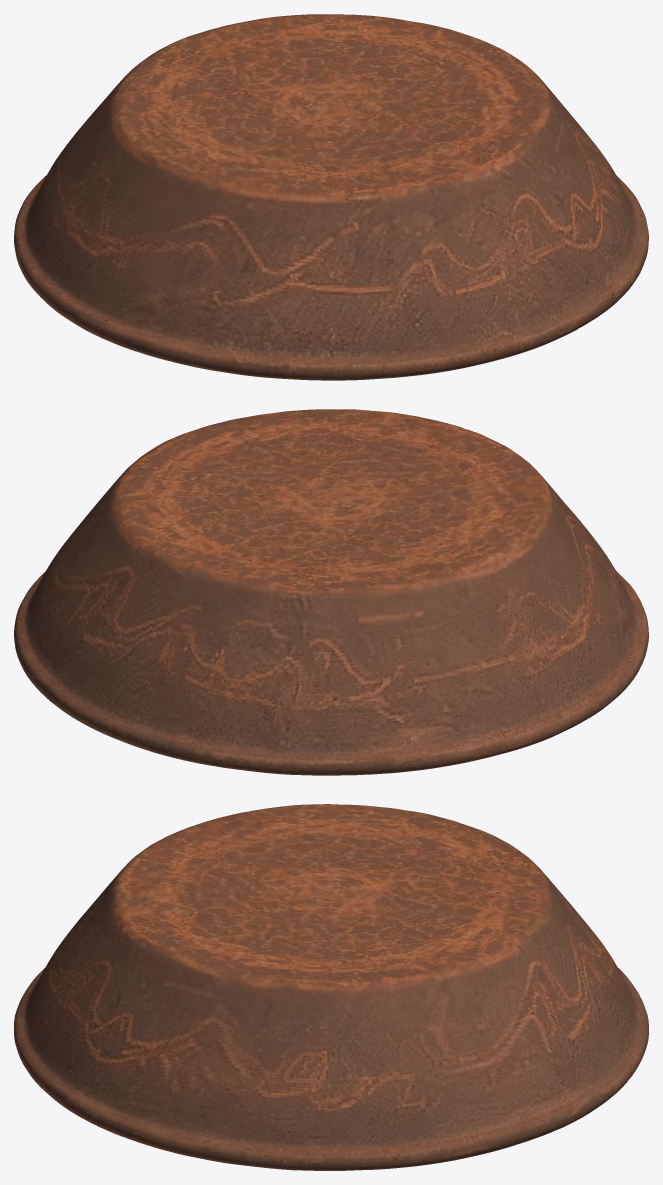
Rendered from jar_lid_optimized.glb.
The picture shows the model from 3 angles, top to bottom: view 1: azimuth 30°, elevation 25°; view 2: azimuth 150°, elevation 25°; view 3: azimuth 270°, elevation 25°; orthographic projection.
Size of the model in its own units: 1.9 by 0.4896 by 1.9.
1 material, 1 textured.
